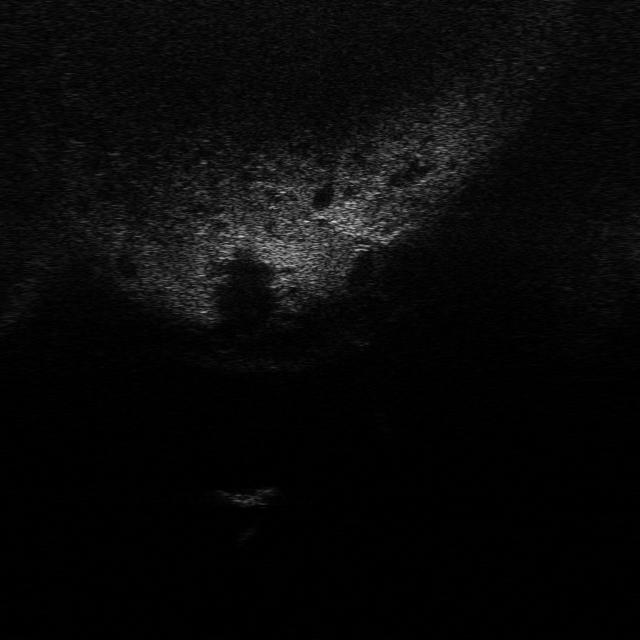ball: (338, 316, 381, 347)
cube: (214, 484, 280, 511)
